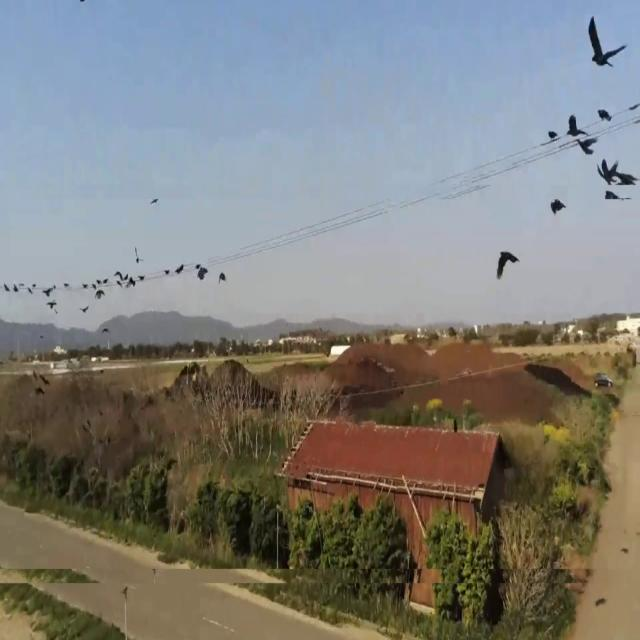bird: (588, 6, 624, 80), (496, 240, 518, 288), (598, 152, 622, 192), (577, 130, 595, 162), (550, 190, 565, 220), (116, 266, 133, 290), (196, 258, 208, 286), (44, 287, 56, 312), (175, 258, 184, 280), (218, 266, 226, 286), (81, 301, 89, 320), (135, 246, 141, 268), (3, 279, 10, 297), (13, 282, 19, 298)
